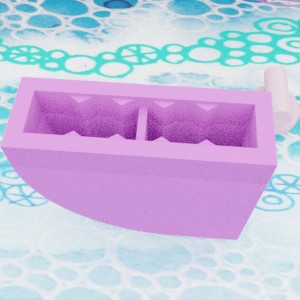lego: (0, 76, 277, 240), (243, 65, 300, 134)
